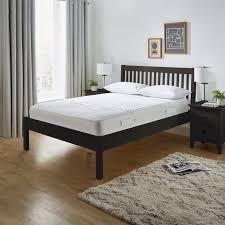bed-matress: (26, 87, 193, 136)
